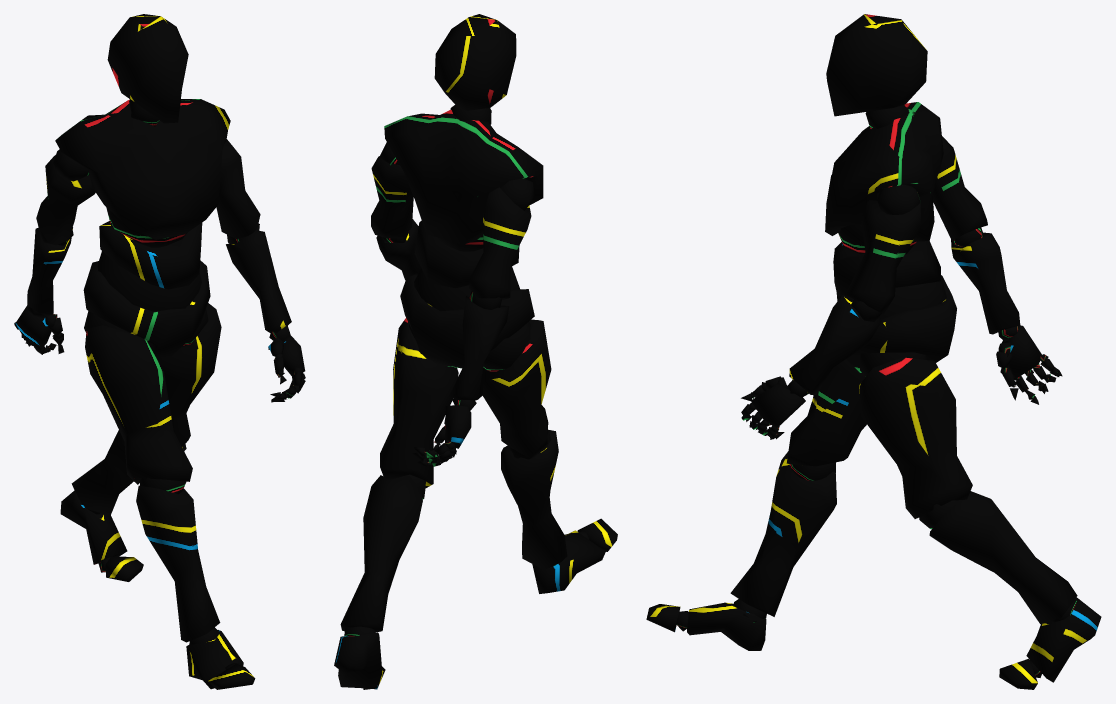
File: y-bot-origin_000007.obj
3 renders of one model, left to right at view 1: azimuth 30°, elevation 25°; view 2: azimuth 150°, elevation 25°; view 3: azimuth 270°, elevation 25°, orthographic. The views are drawn at different scales.
Visible parts, largest first — view 1: Alpha_Surface_Alpha_SurfaceMesh, Alpha_Joints_Alpha_JointsMesh; view 2: Alpha_Surface_Alpha_SurfaceMesh, Alpha_Joints_Alpha_JointsMesh; view 3: Alpha_Surface_Alpha_SurfaceMesh, Alpha_Joints_Alpha_JointsMesh.
Boxes of the visible parts, <box> form: Alpha_Surface_Alpha_SurfaceMesh: <box>15,14,305,689</box>; Alpha_Joints_Alpha_JointsMesh: <box>14,99,305,669</box>; Alpha_Surface_Alpha_SurfaceMesh: <box>334,14,617,689</box>; Alpha_Joints_Alpha_JointsMesh: <box>344,104,589,689</box>; Alpha_Surface_Alpha_SurfaceMesh: <box>646,14,1101,689</box>; Alpha_Joints_Alpha_JointsMesh: <box>676,105,1076,677</box>.
Size of the model in its own units: 0.5377 by 1.75 by 1.12.
